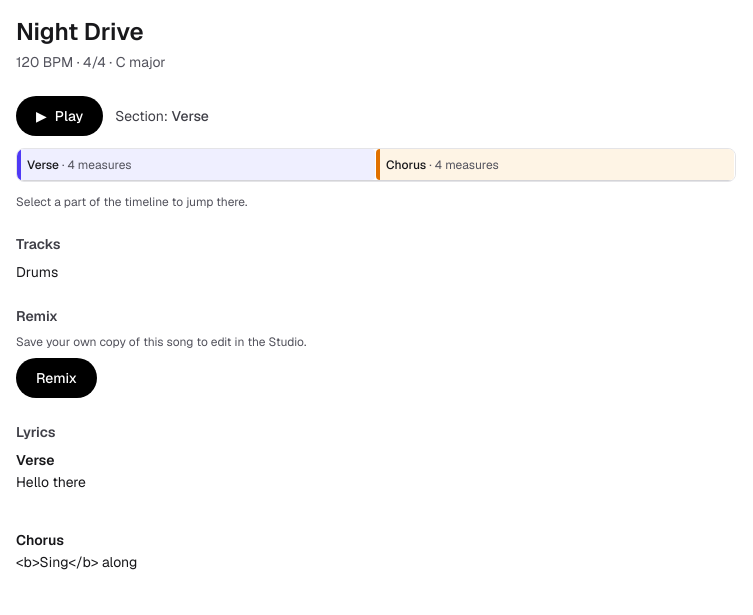
Test: Remix › stays on the page and explains the project limit
This screenshot has width=753, height=615.
Expected: the heading "Night Drive" is shown, [16, 16, 144, 47]
Click the button "Remix".
click(56, 378)  # box [16, 358, 97, 398]
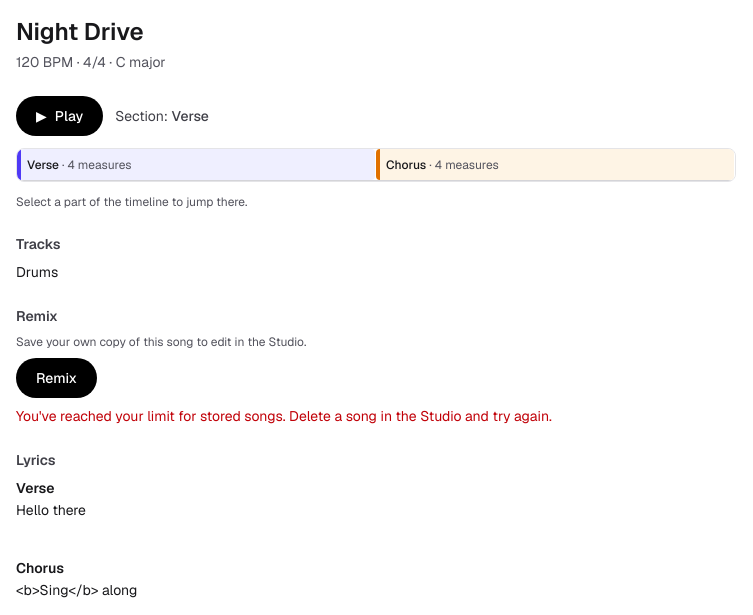
Expected: the message shows "limit for stored songs", [16, 407, 552, 425]
